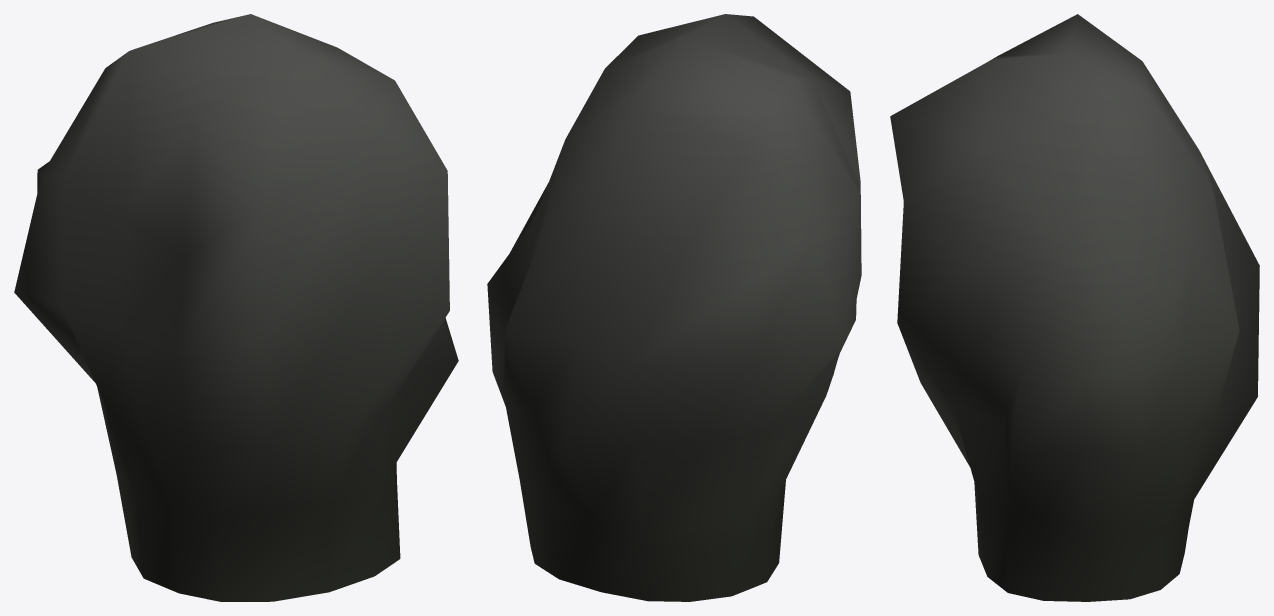
Rendered from WE02_Brush13.fbx.
3 renders of one model, left to right at view 1: azimuth 30°, elevation 25°; view 2: azimuth 150°, elevation 25°; view 3: azimuth 270°, elevation 25°, orthographic. The views are drawn at different scales.
Parts seen in each view (by area): view 1: WE02_Brush13; view 2: WE02_Brush13; view 3: WE02_Brush13.
Part boxes in pixels (x1,y1,x2,y2): WE02_Brush13: (14, 14, 458, 601); WE02_Brush13: (487, 14, 861, 601); WE02_Brush13: (890, 14, 1259, 601).
Bounding box in the file's own units: 5.4 × 7.4 × 5.07.
